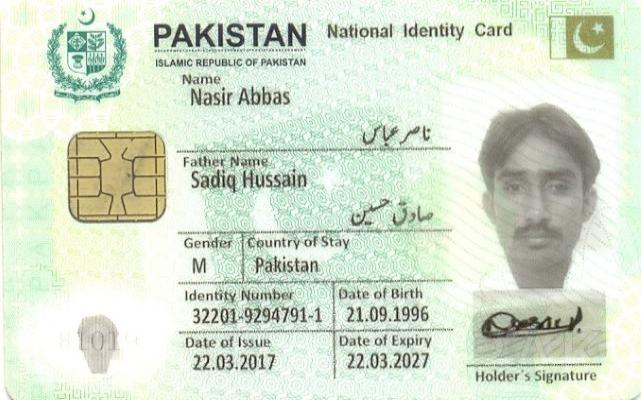fname: (188, 168, 310, 192)
name: (184, 84, 295, 108)
number: (190, 304, 329, 328)
